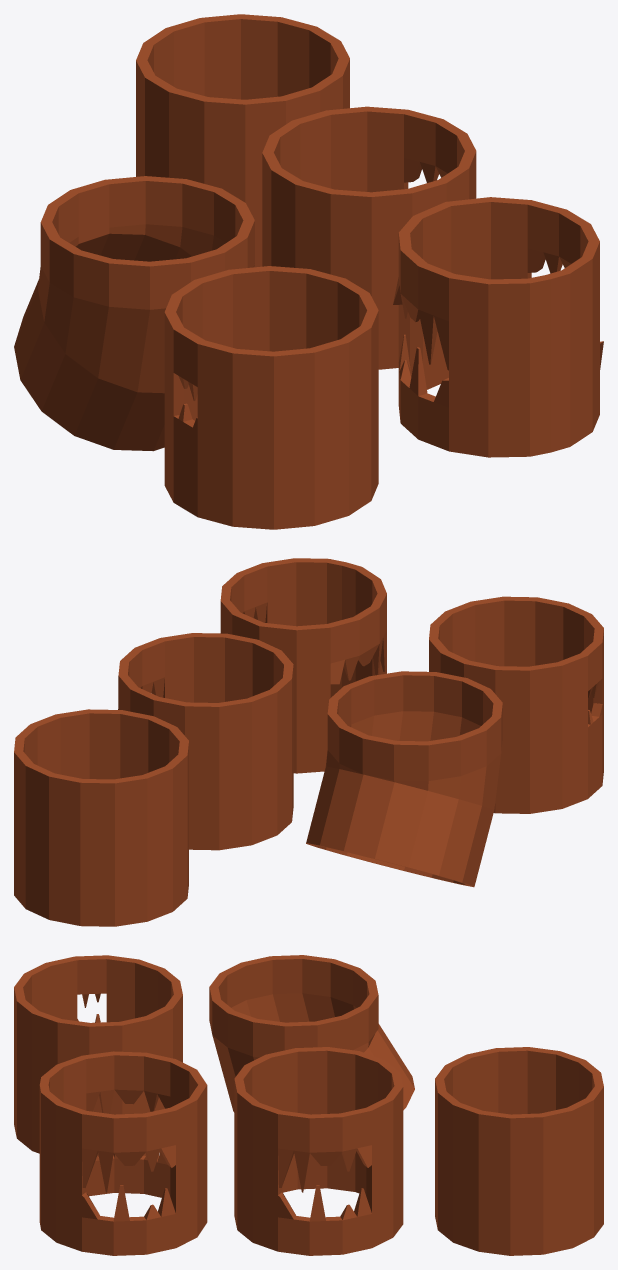
File: NewTrunks01 1.fbx
3 renders of one model, top to bottom at view 1: azimuth 30°, elevation 25°; view 2: azimuth 150°, elevation 25°; view 3: azimuth 270°, elevation 25°, orthographic. The views are drawn at different scales.
Visible parts, largest first — view 1: Cylinder.004, Cylinder.002, Cylinder.003, Cylinder.001, Cylinder.005; view 2: Cylinder.005, Cylinder.003, Cylinder.001, Cylinder.004, Cylinder.002; view 3: Cylinder.005, Cylinder.001, Cylinder.002, Cylinder.004, Cylinder.003.
Part boxes in pixels (bbox=[...]): Cylinder.004: bbox=[164, 266, 378, 529]; Cylinder.002: bbox=[393, 197, 603, 457]; Cylinder.003: bbox=[14, 176, 254, 451]; Cylinder.001: bbox=[262, 106, 476, 369]; Cylinder.005: bbox=[136, 14, 349, 267]; Cylinder.005: bbox=[14, 709, 188, 926]; Cylinder.003: bbox=[306, 671, 502, 887]; Cylinder.001: bbox=[118, 633, 293, 850]; Cylinder.004: bbox=[429, 596, 603, 813]; Cylinder.002: bbox=[220, 558, 386, 773]; Cylinder.005: bbox=[435, 1047, 603, 1255]; Cylinder.001: bbox=[234, 1047, 403, 1255]; Cylinder.002: bbox=[39, 1051, 207, 1255]; Cylinder.004: bbox=[14, 955, 182, 1156]; Cylinder.003: bbox=[209, 955, 414, 1112].
Bounding box in the file's own units: 25459 × 12448 × 38861.
